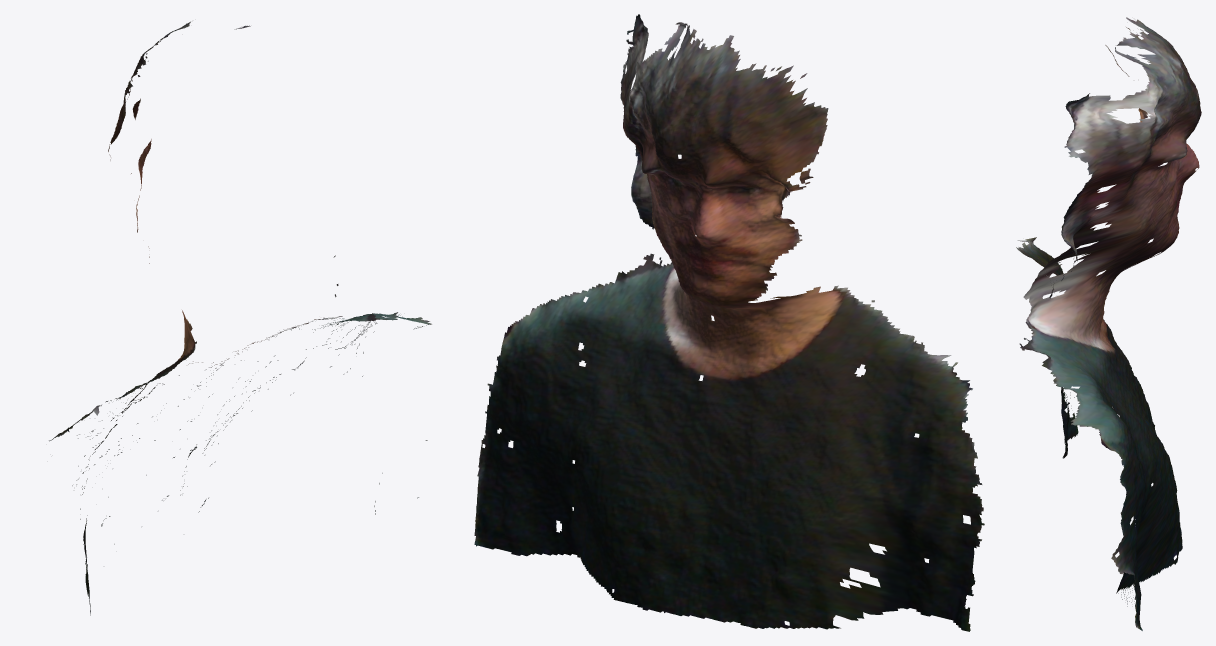
File: tim1_2.glb
3 renders of one model, left to right at view 1: azimuth 30°, elevation 25°; view 2: azimuth 150°, elevation 25°; view 3: azimuth 270°, elevation 25°, orthographic. The views are drawn at different scales.
Parts seen in each view (by area): view 1: output_tim1; view 2: output_tim1; view 3: output_tim1.
Part boxes in pixels (bbox=[...]): output_tim1: bbox=[49, 21, 431, 615]; output_tim1: bbox=[474, 14, 984, 631]; output_tim1: bbox=[1016, 17, 1201, 630].
Size of the model in its own units: 0.4636 by 0.5305 by 0.1786.
